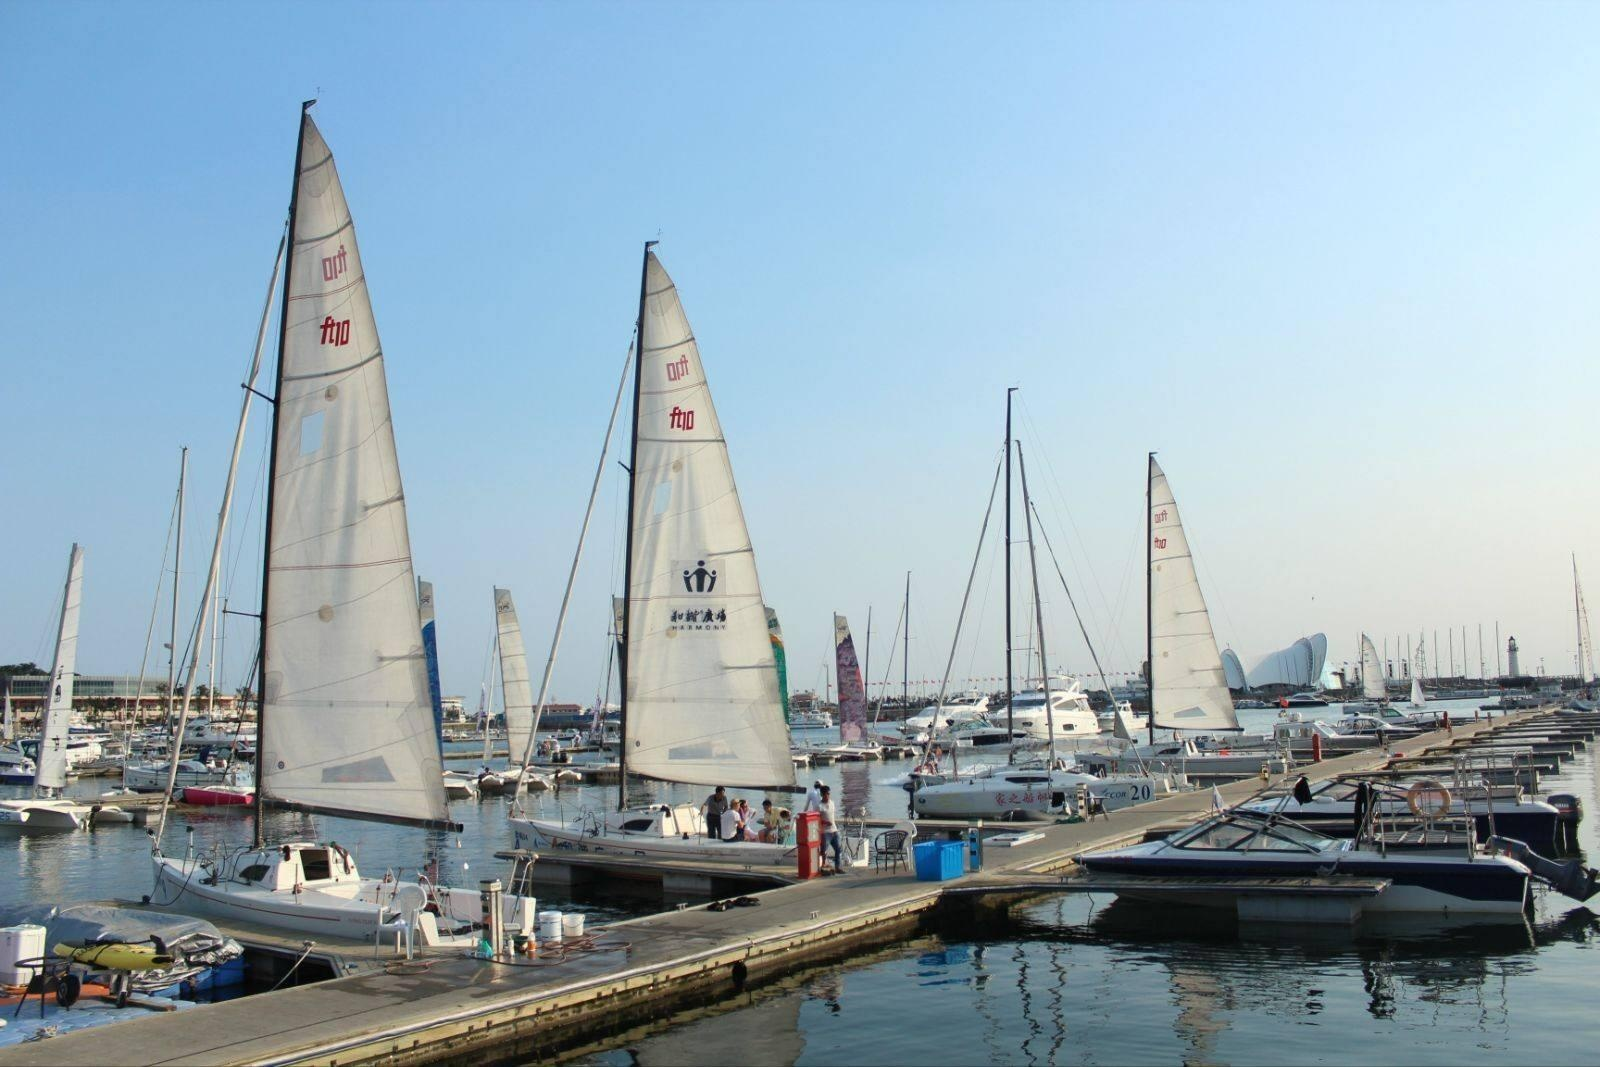fanchuan: (145, 93, 494, 950), (514, 233, 846, 872), (1108, 443, 1288, 774)
